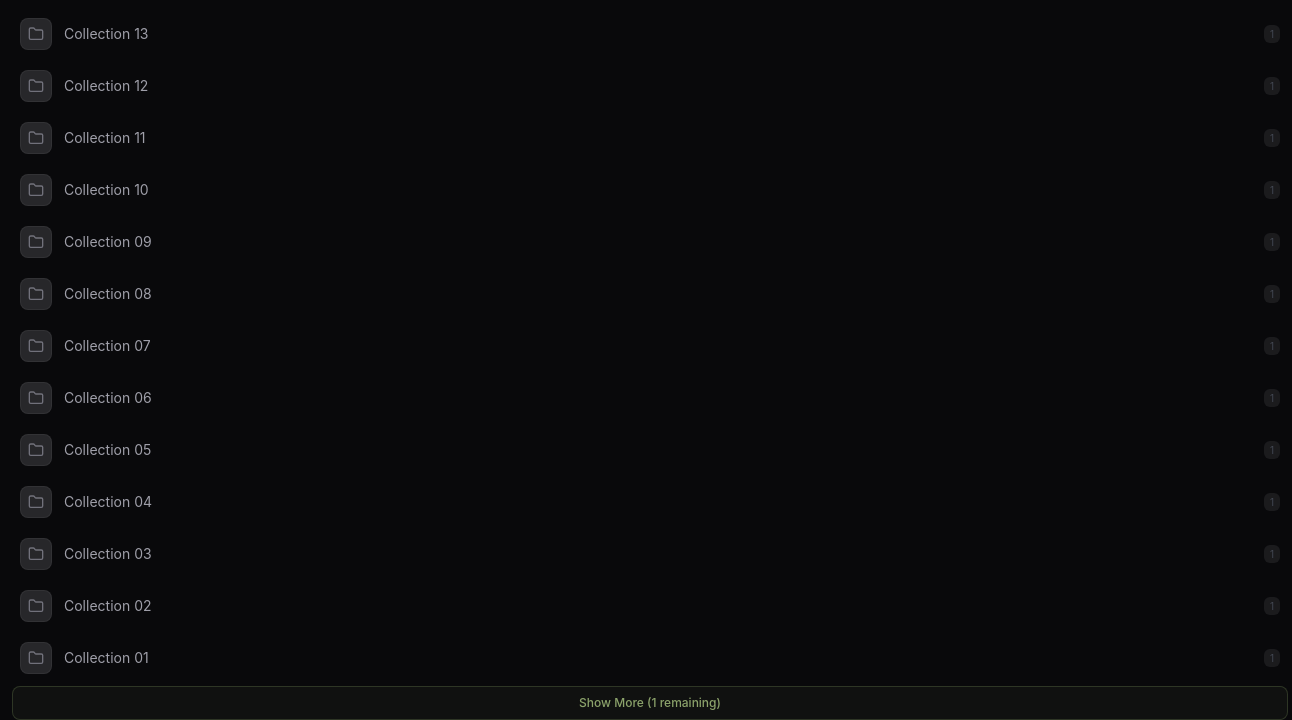
Test: CollectionList interactions › paginates non-pinned collections by sixty
(page scrolled)
Expected: the text "Collection 00" is not shown
Click the button "Show More (1 remaining)" at x=650, y=703, box [12,686,1288,719]
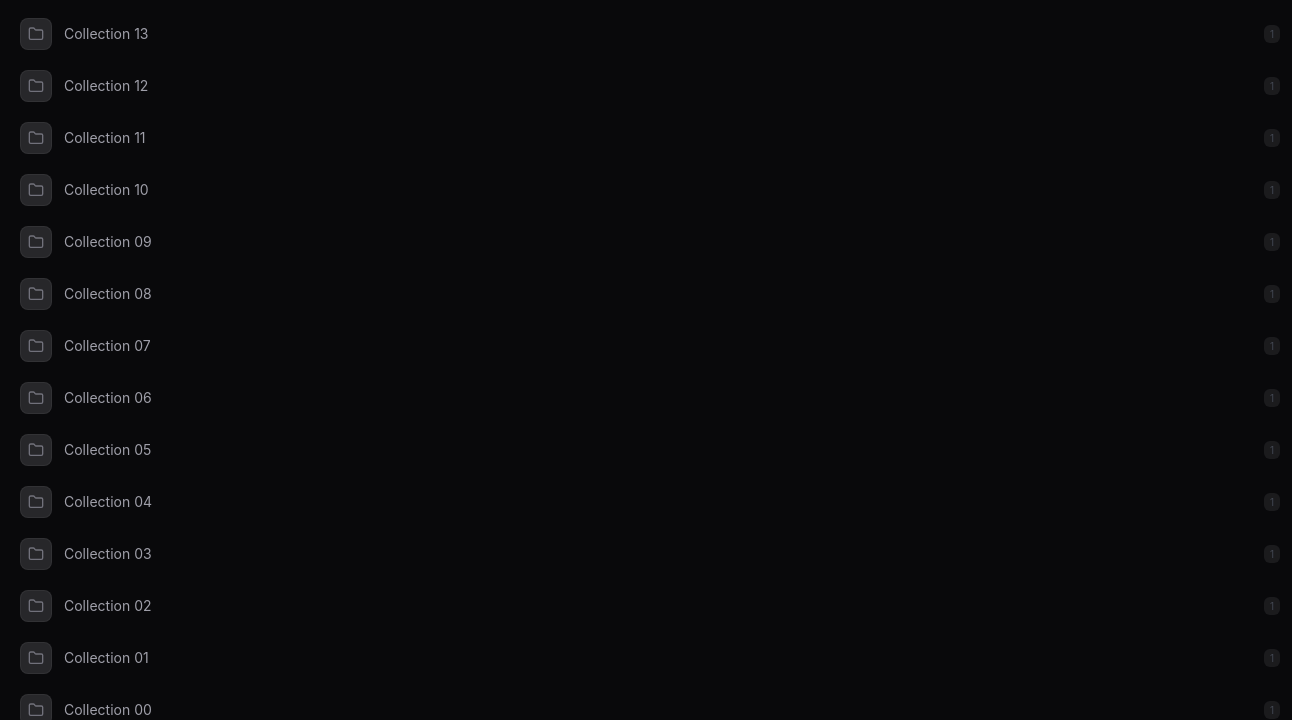
Now the text "Collection 00" is shown, box [64,700,152,719]
